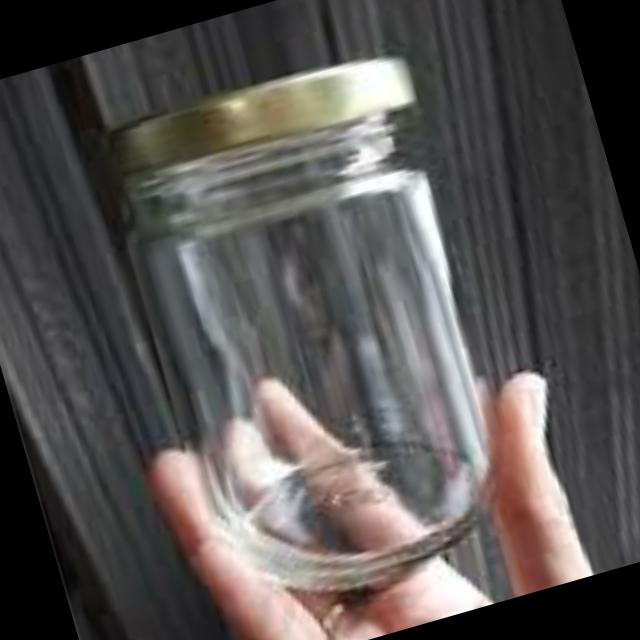ToplesKaca: (87, 8, 560, 640)
